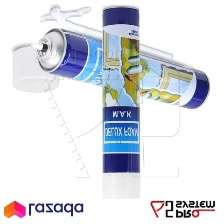aerosol_cans: (26, 23, 214, 112), (97, 4, 142, 204)
